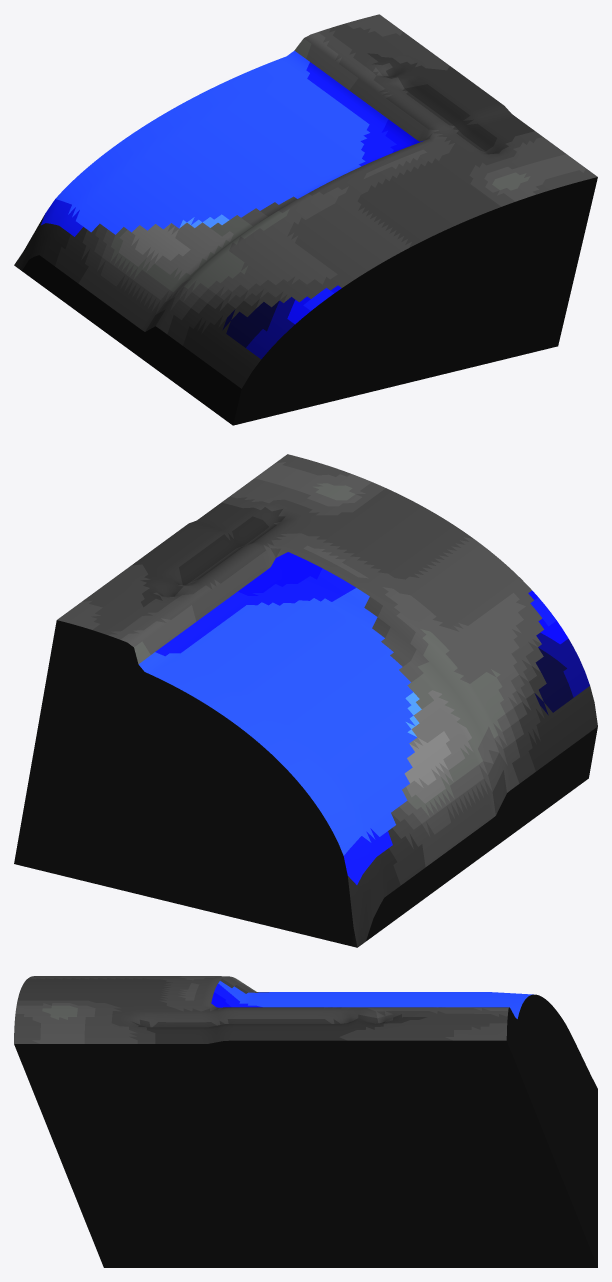
The model's file is time_capsule_206.glb.
3 views of the same model, one above another, from view 1: azimuth 30°, elevation 25°; view 2: azimuth 150°, elevation 25°; view 3: azimuth 270°, elevation 25° (orthographic). The views are drawn at different scales.
Visible parts, largest first — view 1: time_capsule_206; view 2: time_capsule_206; view 3: time_capsule_206.
Boxes of the visible parts, x1,y1,x2,y2 form: time_capsule_206: (14,14,597,425); time_capsule_206: (14,454,597,947); time_capsule_206: (14,976,597,1267).
Bounding box in the file's own units: 24 × 14.2 × 33.1.
